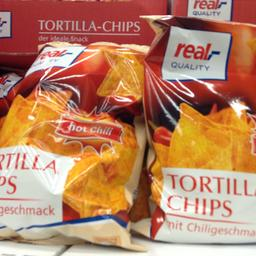chips: (0, 38, 154, 236), (140, 12, 254, 238)
